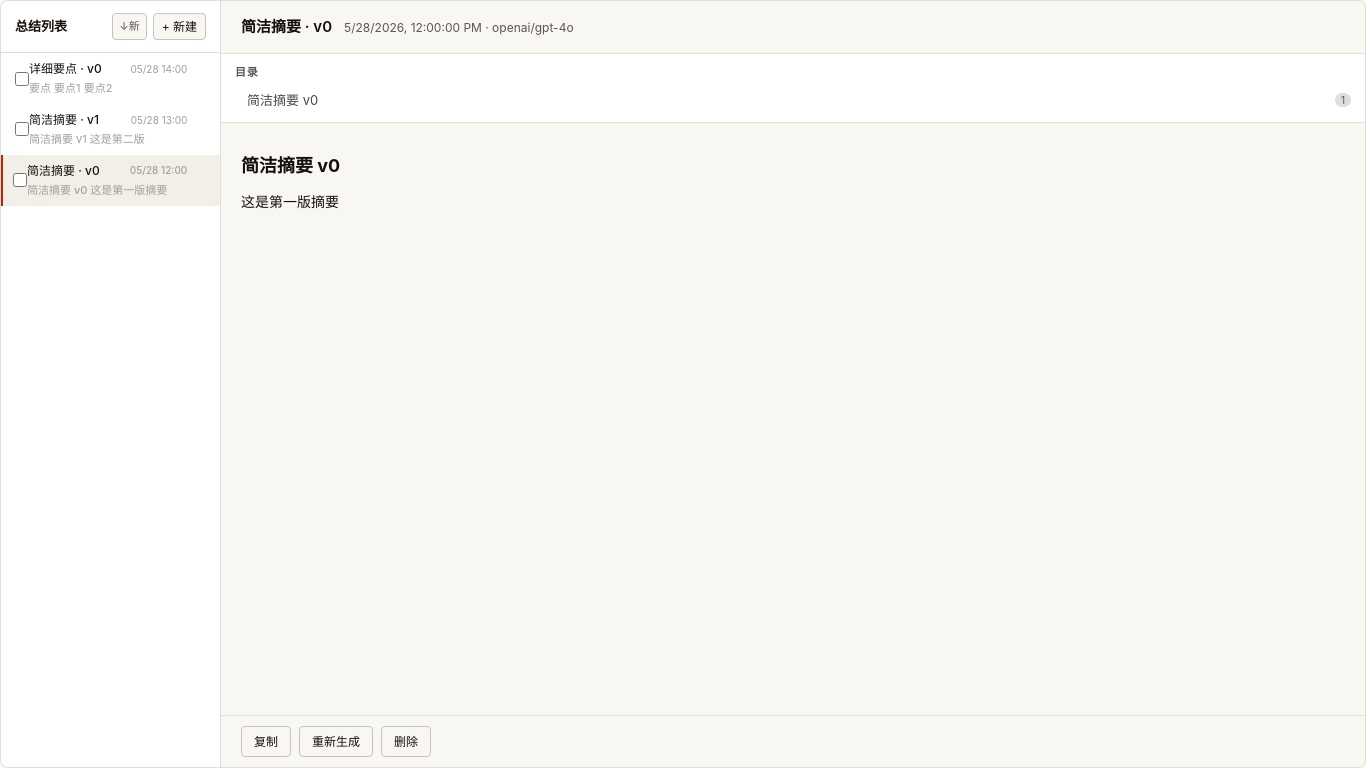
Scenario: SummariesTab › 勾选 2 份后进入对比模式，并排显示
Click the checkbox next to "详细要点 · v0": (22, 79) [15,72,29,86]
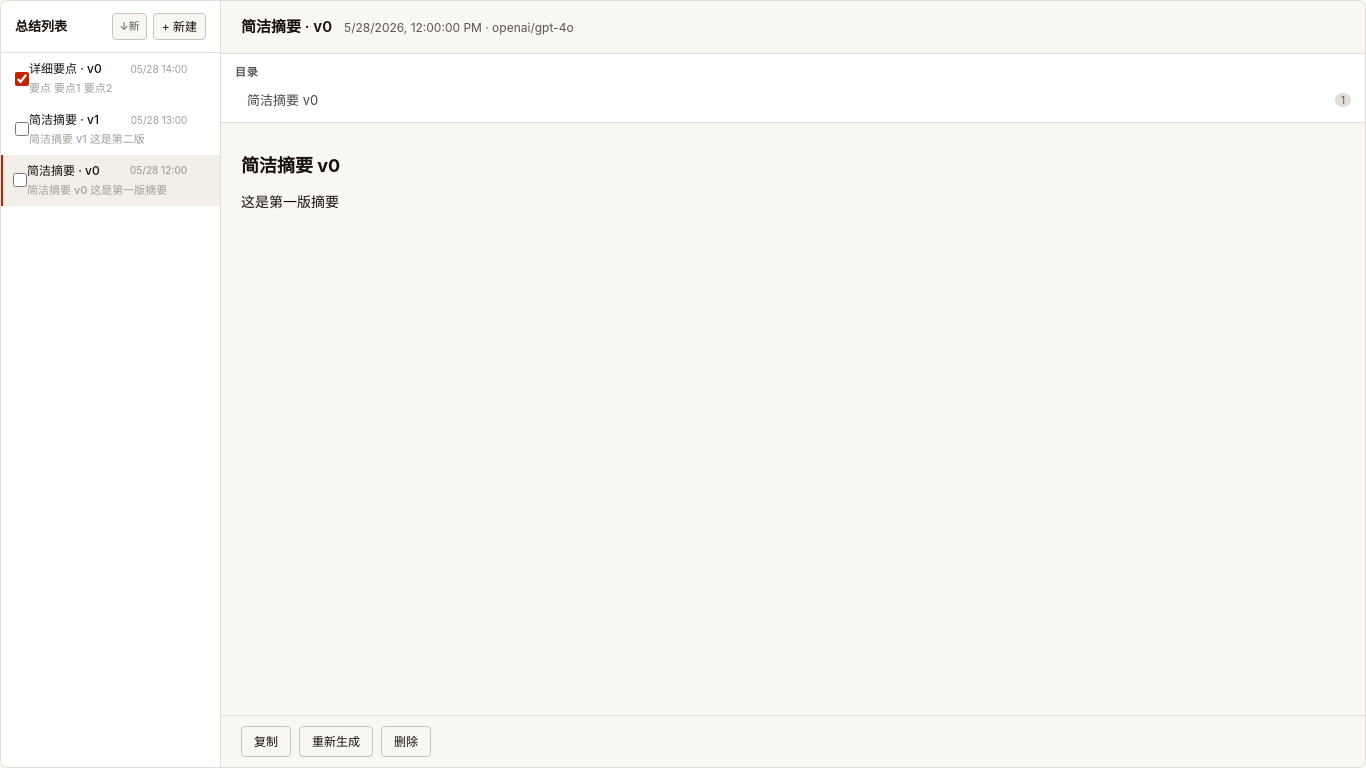
Click the checkbox next to "简洁摘要 · v1": (22, 129) [15,122,29,136]
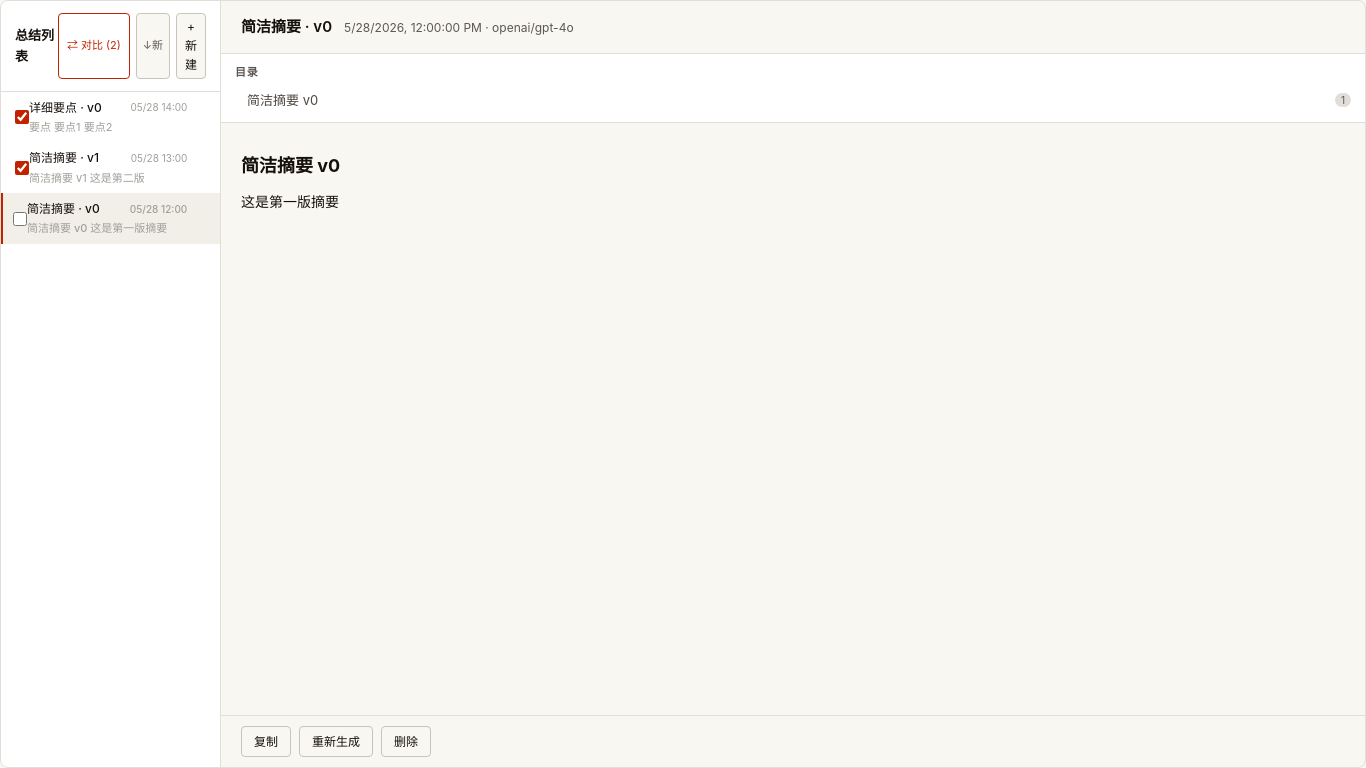
Result: the button "⇄ 对比 (2)" is shown
Click the button "⇄ 对比 (2)": (94, 46) [58,13,130,79]
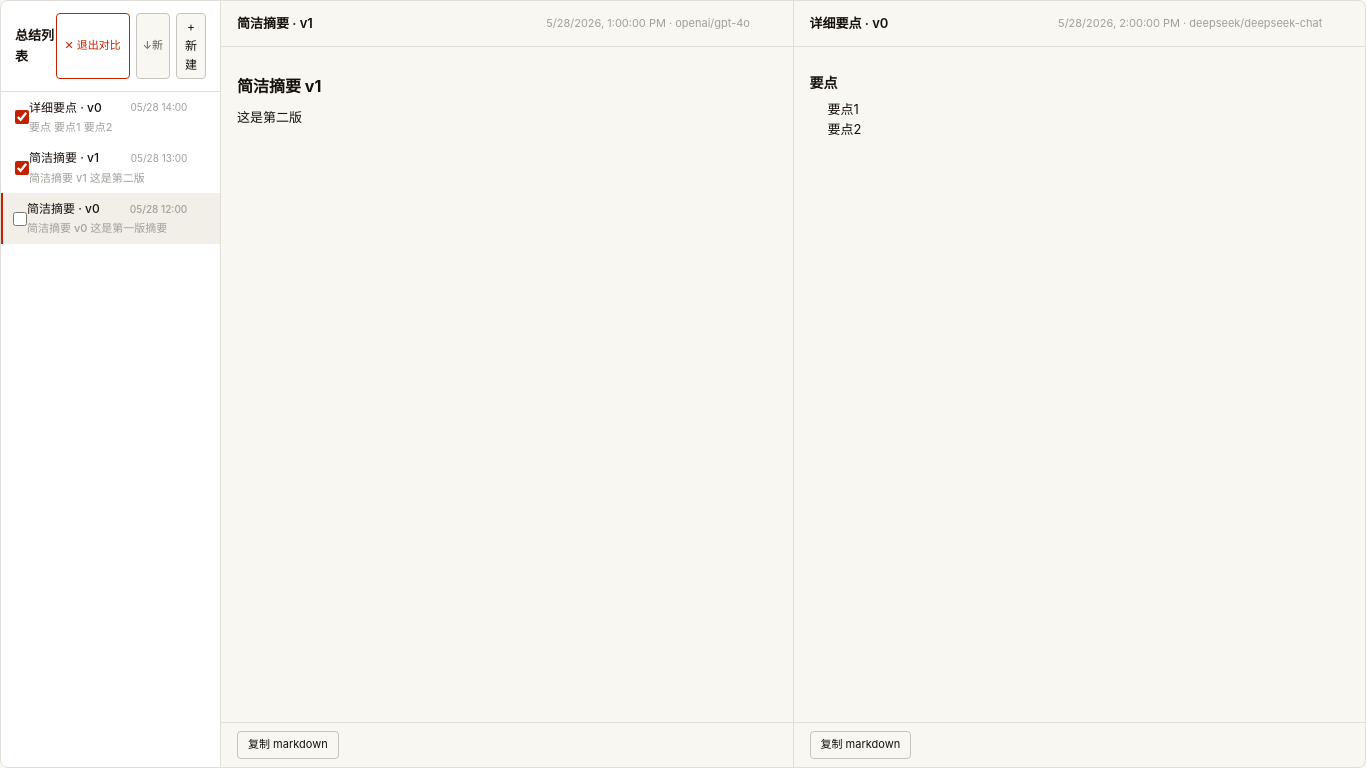
Result: the button "✕ 退出对比" is shown at [56,13,130,79]
